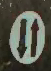Two way: (8, 4, 45, 66)
